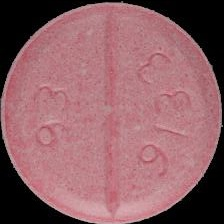0093-9133: (0, 0, 224, 224)
